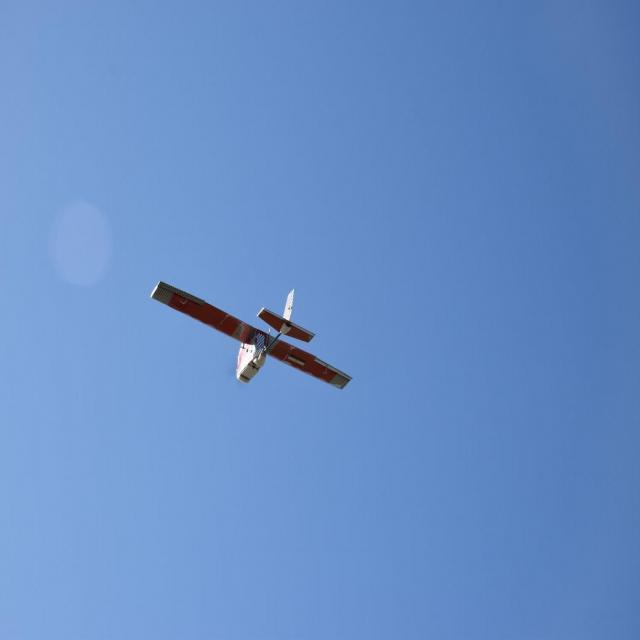iha: (130, 313, 354, 357)
